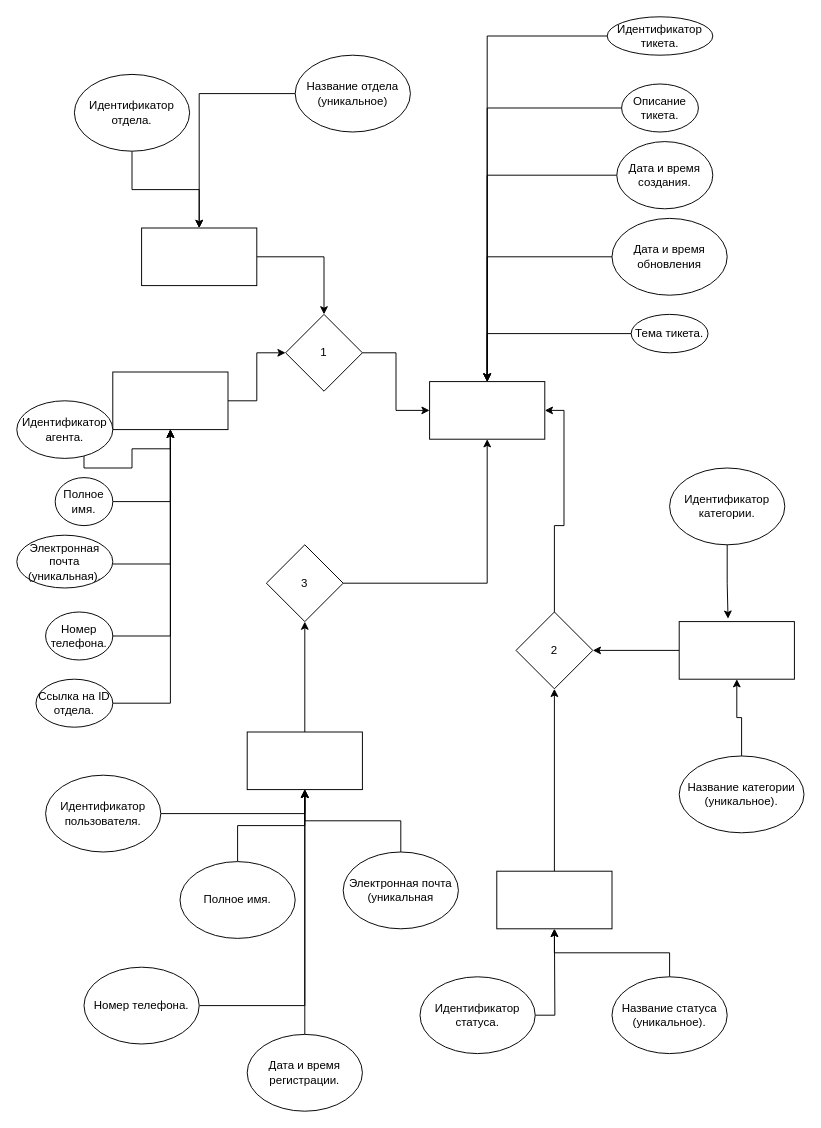
The diagram is 821 pixels wide and 1128 high, and some of its shapes have lost their labels. Each missing label, with the centre of its shape:
Агенты поддержки: the point at 170,400
Категории тикетов: the point at 736,650
Отделы: the point at 199,256
Пользователи: the point at 304,760
Статусы тикетов: the point at 554,899
Тикеты: the point at 487,410
